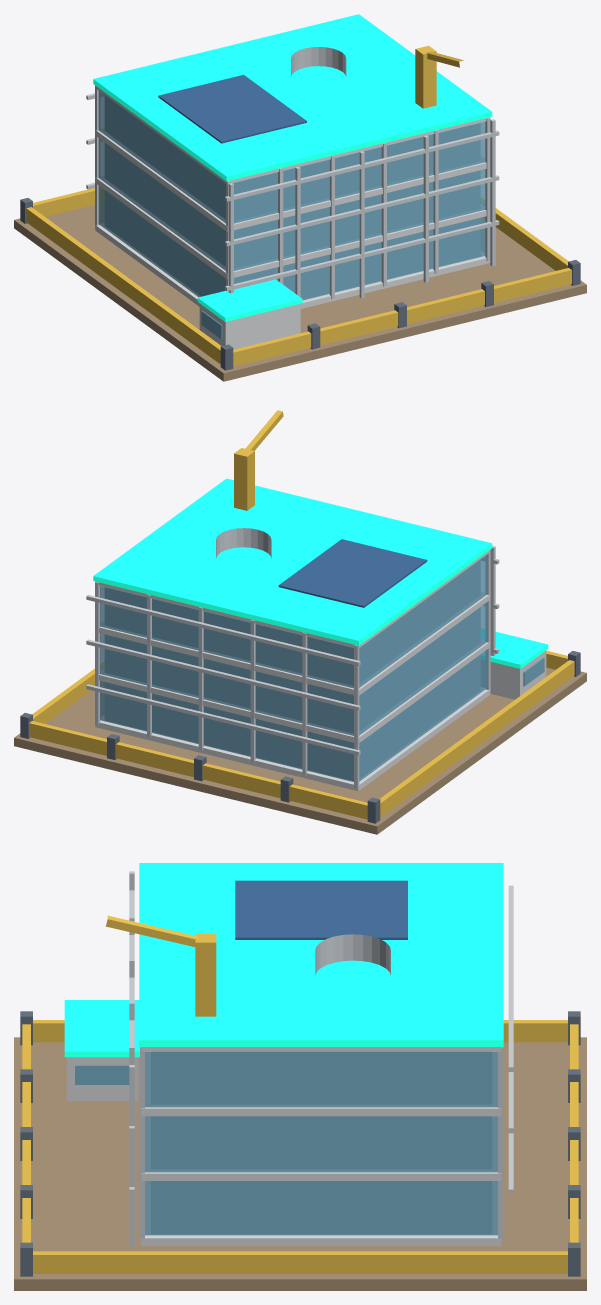
The model's file is stage_5_finishing.master.glb.
The picture shows the model from 3 angles, top to bottom: view 1: azimuth 30°, elevation 25°; view 2: azimuth 150°, elevation 25°; view 3: azimuth 270°, elevation 25°; orthographic projection. The views are drawn at different scales.
Visible parts, largest first — view 1: stage_5_finishing_master; view 2: stage_5_finishing_master; view 3: stage_5_finishing_master.
Part boxes in pixels (x1=…): stage_5_finishing_master: x1=14, y1=14, x2=586, y2=381; stage_5_finishing_master: x1=14, y1=410, x2=586, y2=834; stage_5_finishing_master: x1=14, y1=863, x2=586, y2=1290.
Size of the model in its own units: 2.72 by 1.64 by 2.72.
